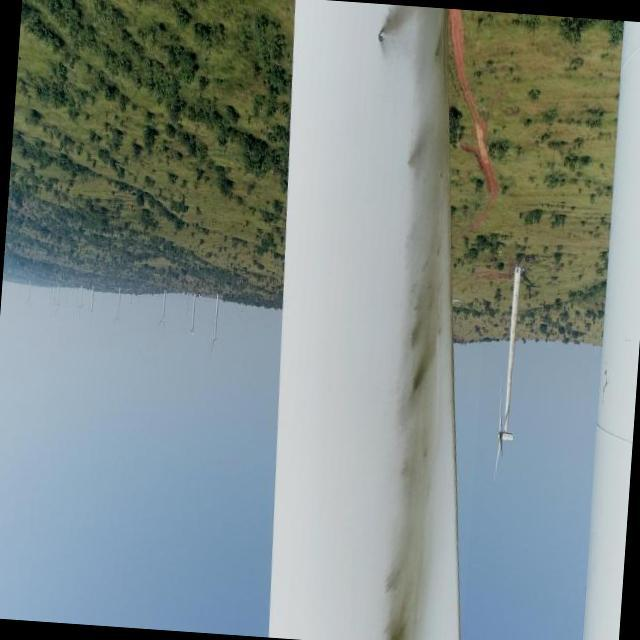Dirt: (375, 4, 452, 640)
Pin Hole: (377, 24, 387, 46)
